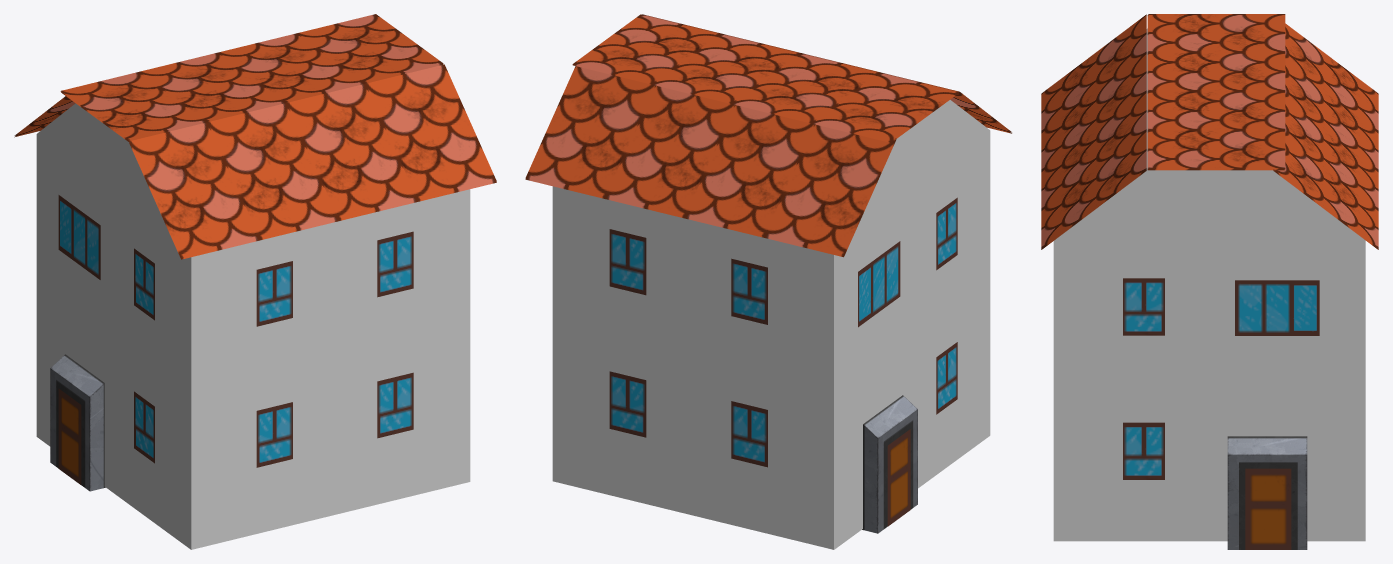
Rendered from home5.fbx.
The picture shows the model from 3 angles, left to right: view 1: azimuth 30°, elevation 25°; view 2: azimuth 150°, elevation 25°; view 3: azimuth 270°, elevation 25°; orthographic projection.
Parts seen in each view (by area): view 1: Cube.035; view 2: Cube.035; view 3: Cube.035.
Boxes of the visible parts, <box> form: Cube.035: <box>14,14,496,549</box>; Cube.035: <box>525,14,1011,549</box>; Cube.035: <box>1041,14,1378,549</box>.
Size of the model in its own units: 235 by 270 by 215.
